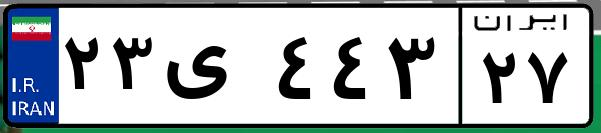2: (57, 26, 110, 100), (475, 38, 525, 113)
3: (385, 28, 445, 110), (110, 28, 158, 98)
4: (270, 28, 330, 110), (330, 28, 385, 110)
7: (525, 38, 570, 115)
ی: (158, 20, 270, 120)
